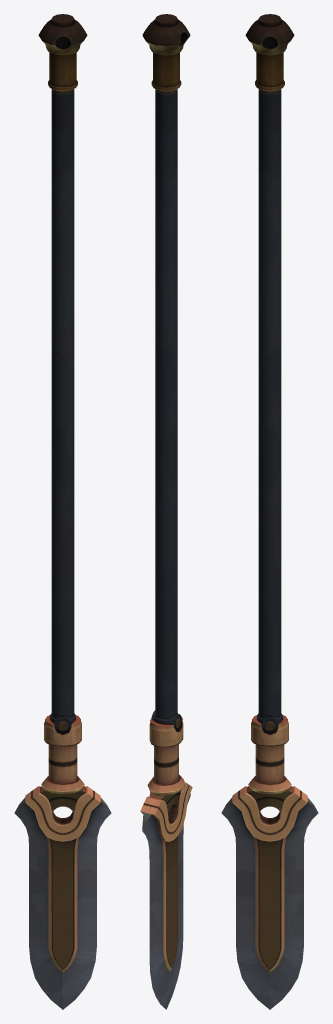
File: Landsraad_Halberd_TRUE_FBX.fbx
3 renders of one model, left to right at view 1: azimuth 90°, elevation 25°; view 2: azimuth 150°, elevation 25°; view 3: azimuth 270°, elevation 25°, orthographic.
Visible parts, largest first — view 1: Halberd; view 2: Halberd; view 3: Halberd.
Boxes of the visible parts, <box> form: Halberd: <box>14,14,111,1009</box>; Halberd: <box>140,14,192,1009</box>; Halberd: <box>221,14,318,1009</box>.
Bounding box in the file's own units: 0.1018 × 0.2314 × 2.6.
